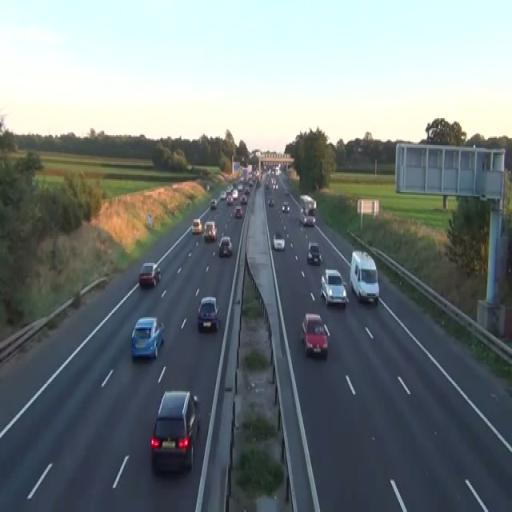Car: (150, 389, 200, 476), (350, 250, 380, 306), (131, 316, 165, 360), (300, 314, 330, 359), (320, 269, 348, 306), (198, 297, 219, 332), (139, 262, 161, 288), (308, 242, 322, 266), (218, 236, 233, 258), (204, 220, 217, 242), (273, 233, 285, 252), (192, 218, 202, 234)
